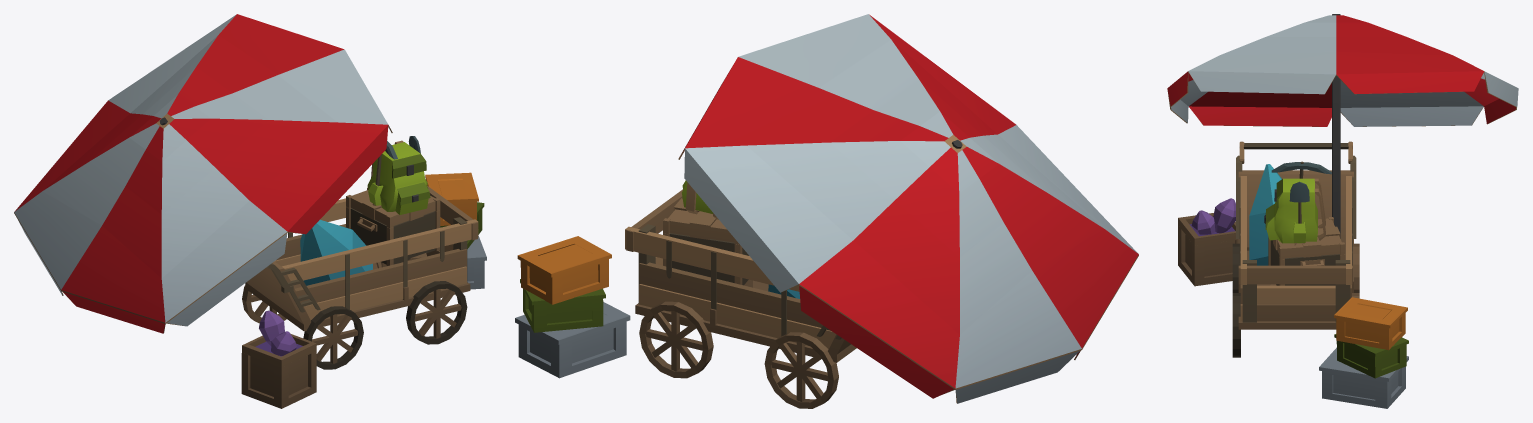
File: Backpack shop.fbx
3 views of the same model, side by side, from view 1: azimuth 30°, elevation 25°; view 2: azimuth 150°, elevation 25°; view 3: azimuth 270°, elevation 25° (orthographic). The views are drawn at different scales.
Visible parts, largest first — view 1: Backpack shop; view 2: Backpack shop; view 3: Backpack shop.
Part boxes in pixels (bbox=[...]): Backpack shop: bbox=[14, 14, 486, 408]; Backpack shop: bbox=[515, 14, 1138, 408]; Backpack shop: bbox=[1167, 14, 1518, 408].
Bounding box in the file's own units: 420 × 241 × 294.
